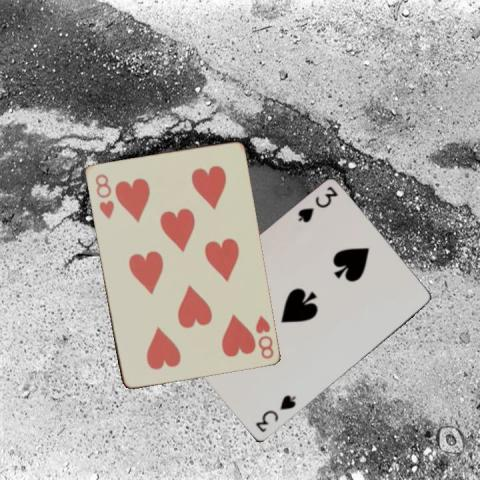3s: (252, 392, 297, 434), (295, 184, 339, 225)
8h: (92, 171, 116, 220), (252, 311, 275, 360)
